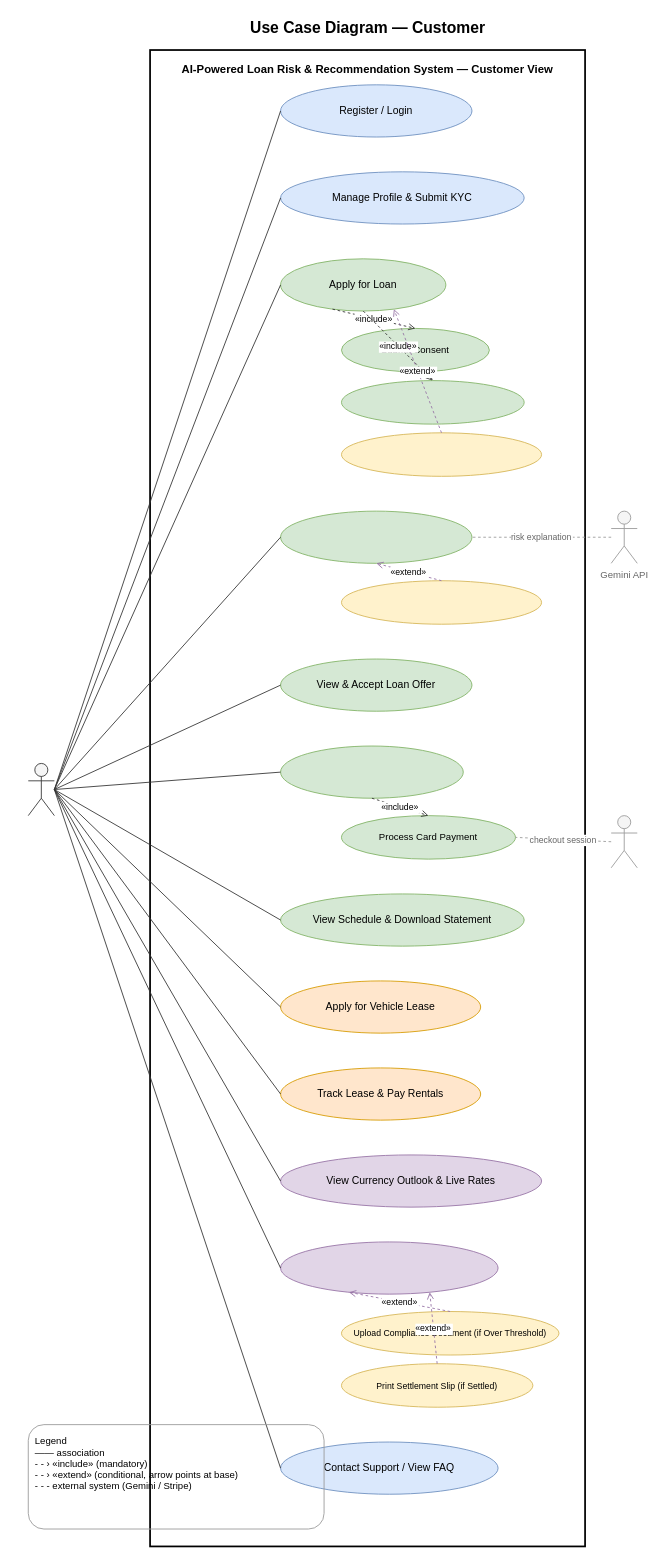
Image size: 663x1562. Some labels were removed from this diagram. The shapes that lost their labels are listed below. From the top down, each one's centre as x and y in pixels, then its label:
At point (432, 402): "Upload Loan Documents".
At point (441, 454): "Auto-Save Draft (on Exit)".
At point (376, 536): "Track Application Status".
At point (441, 602): "Download Decision Letter (if Decided)".
At point (40, 789): "Customer".
At point (371, 771): "Make Online Repayment".
At point (623, 841): "Stripe".
At point (389, 1267): "Submit FX Exchange Request".
